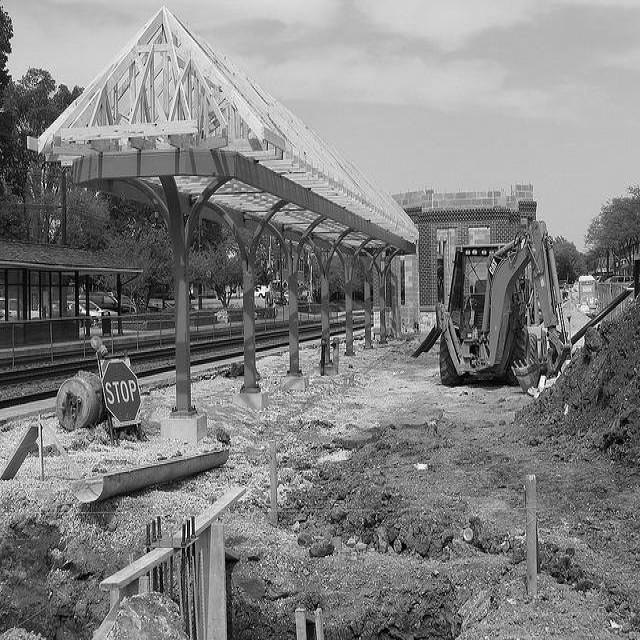vehicle: (0, 300, 48, 319), (68, 300, 118, 317), (80, 292, 119, 311), (147, 297, 173, 312), (269, 291, 287, 307), (254, 290, 265, 300), (283, 291, 289, 303)
